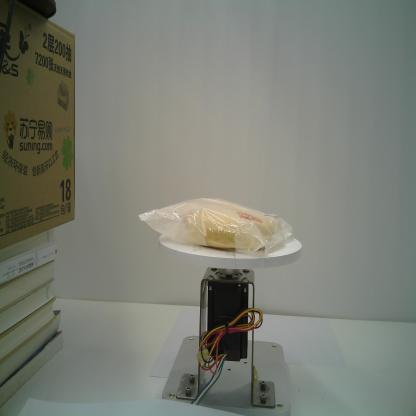Dessert: (137, 197, 294, 259)
